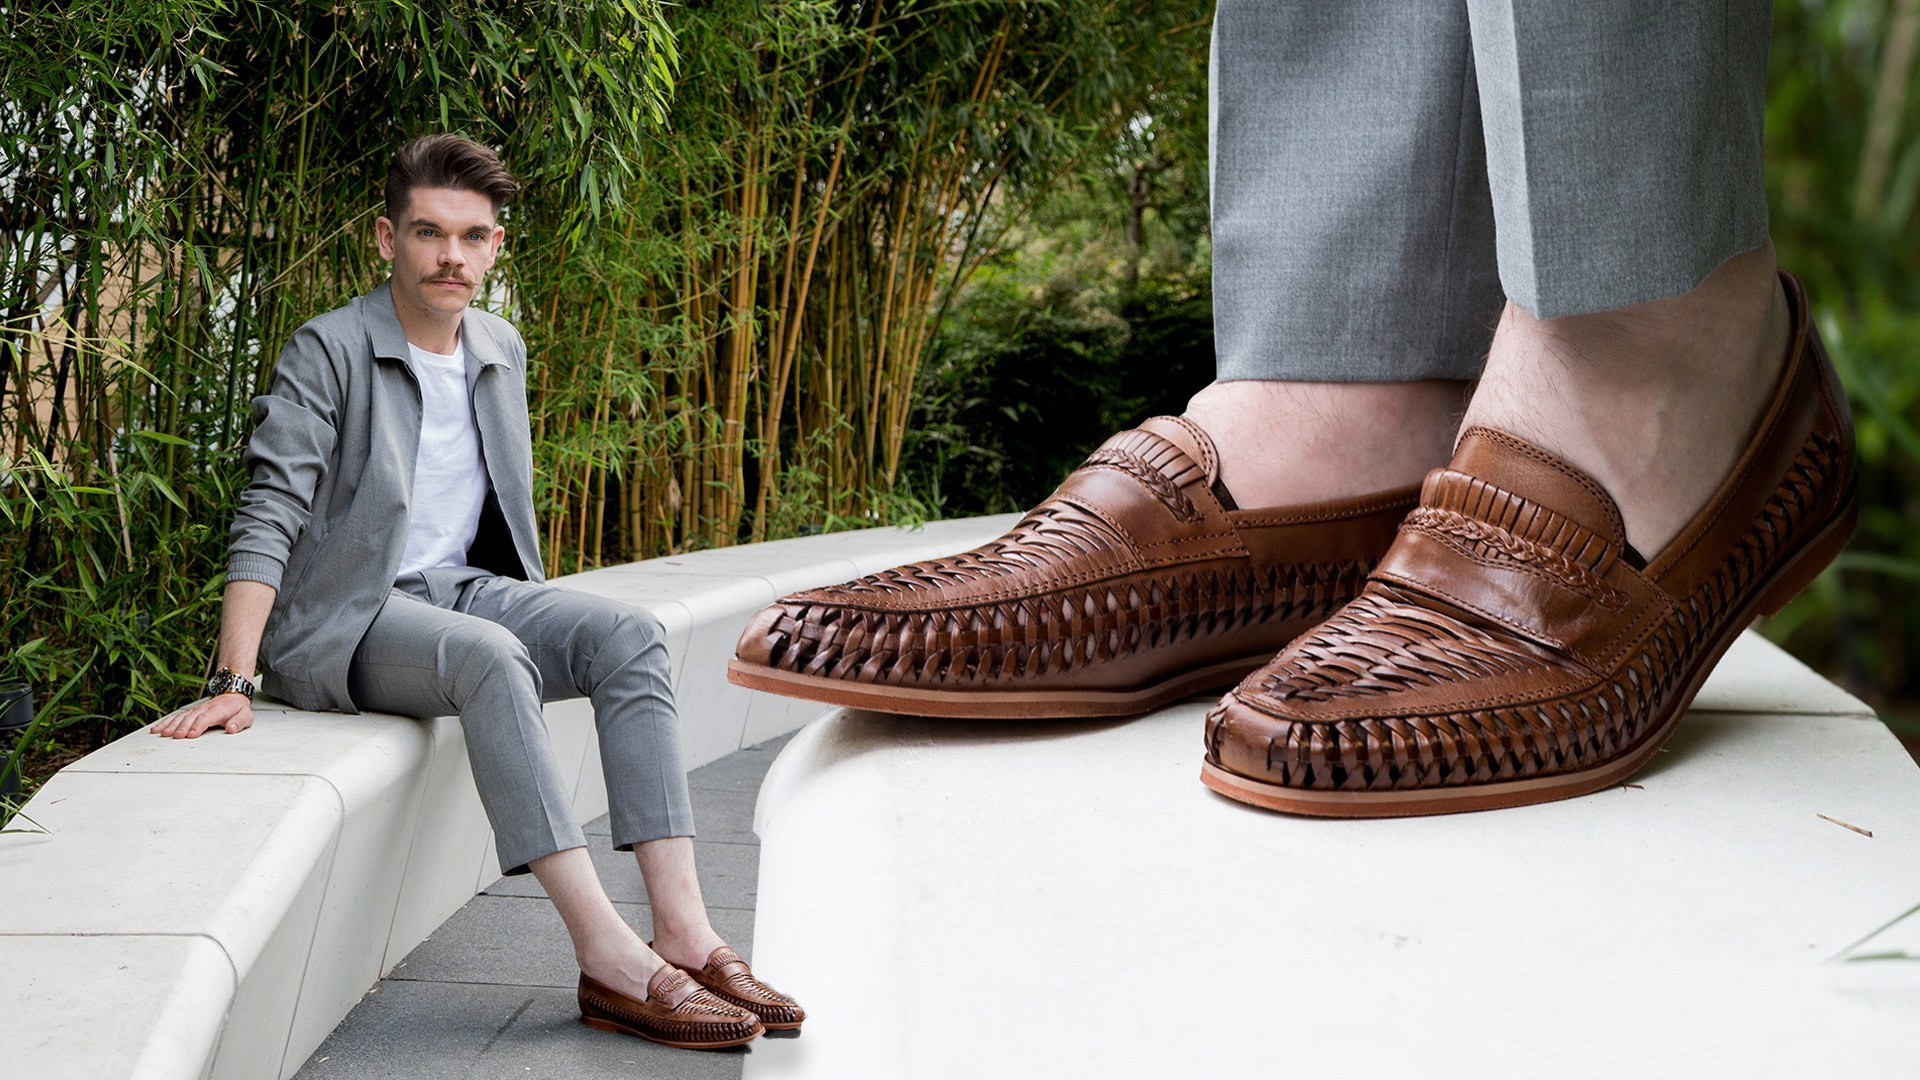shoe: (1175, 255, 1878, 885), (704, 422, 1576, 727), (571, 948, 769, 1059), (644, 932, 820, 1040)
